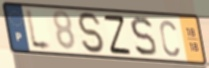8: (51, 9, 79, 54)
C: (158, 19, 181, 59)
L: (24, 6, 55, 54)
S: (76, 11, 108, 56), (129, 15, 159, 59)
Z: (102, 14, 133, 56)
